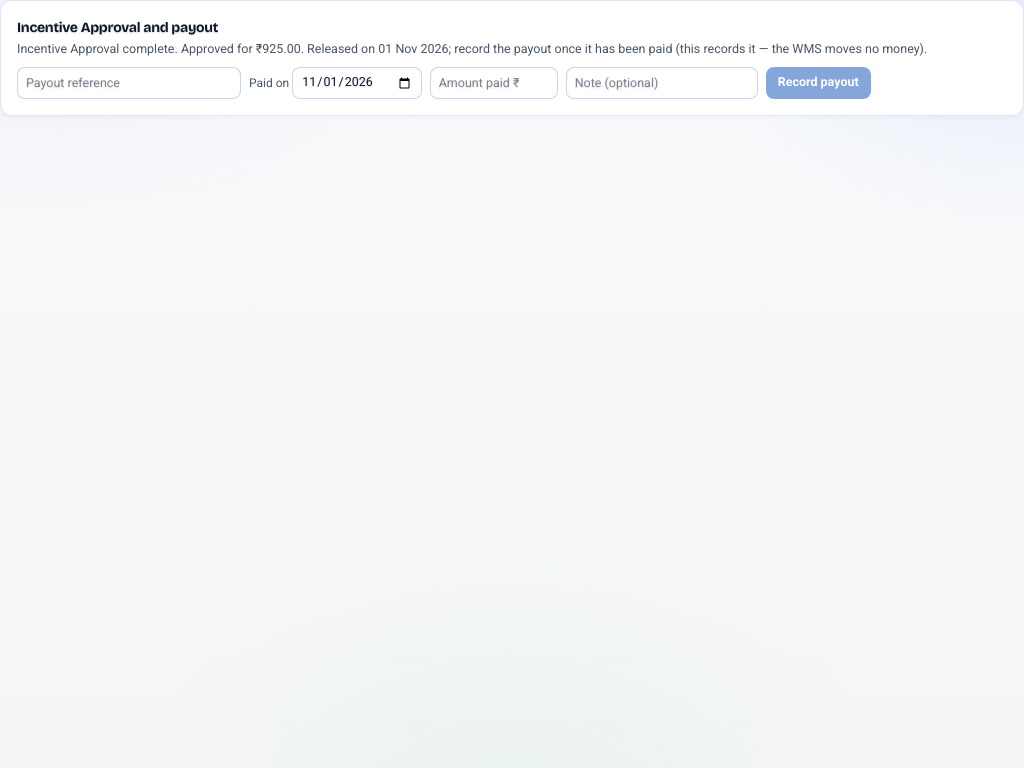
payout amount on the approval panel › sends the amount paid for reconciliation
Check: the text "Approved for ₹925.00" is shown, box [17,41,927,56]
Step 1. Type "NEFT-9" into the field labelled "Payout reference" → (129, 83), box [17,67,241,99]
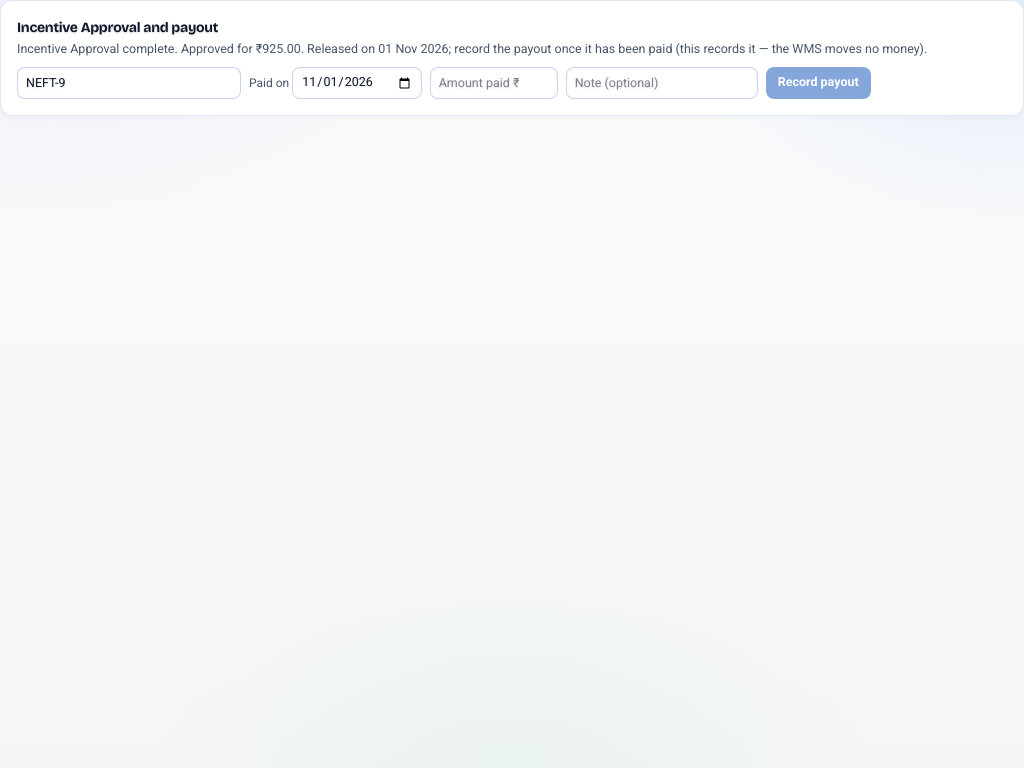
Step 2. Type "500" into the number field labelled "Amount paid" → (494, 83), box [430,67,558,99]
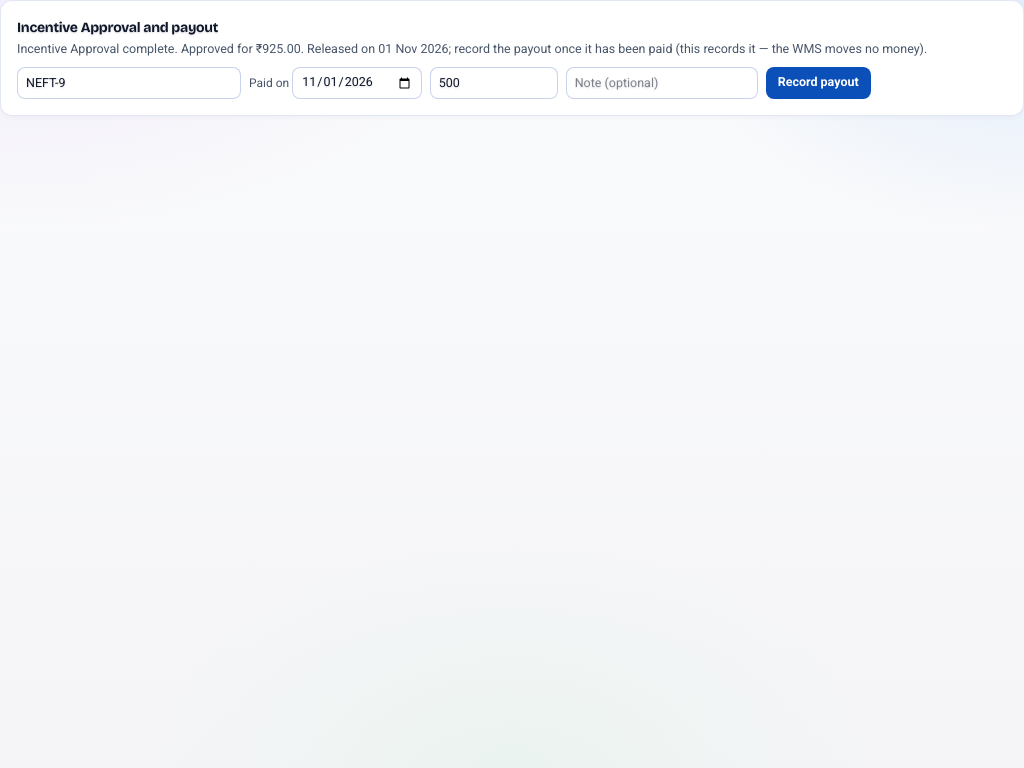
Step 3. Click the button "Record payout" → (818, 83), box [766,67,871,99]
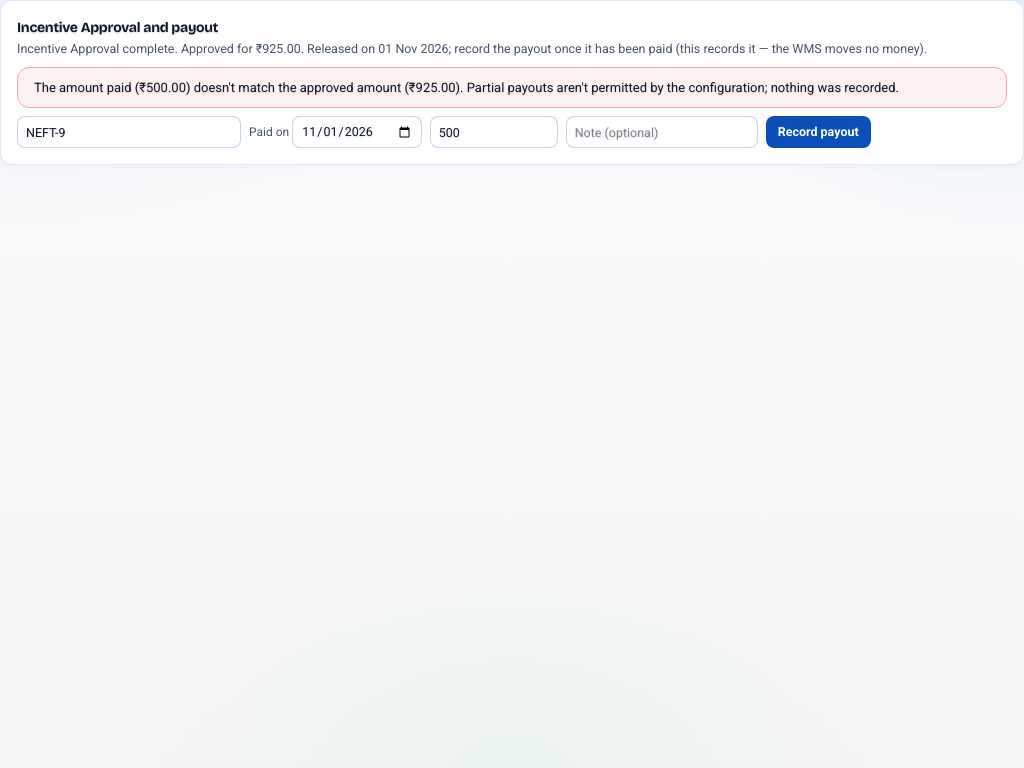
Check: the message shows "doesn't match the approved amount", box [34,80,899,95]
